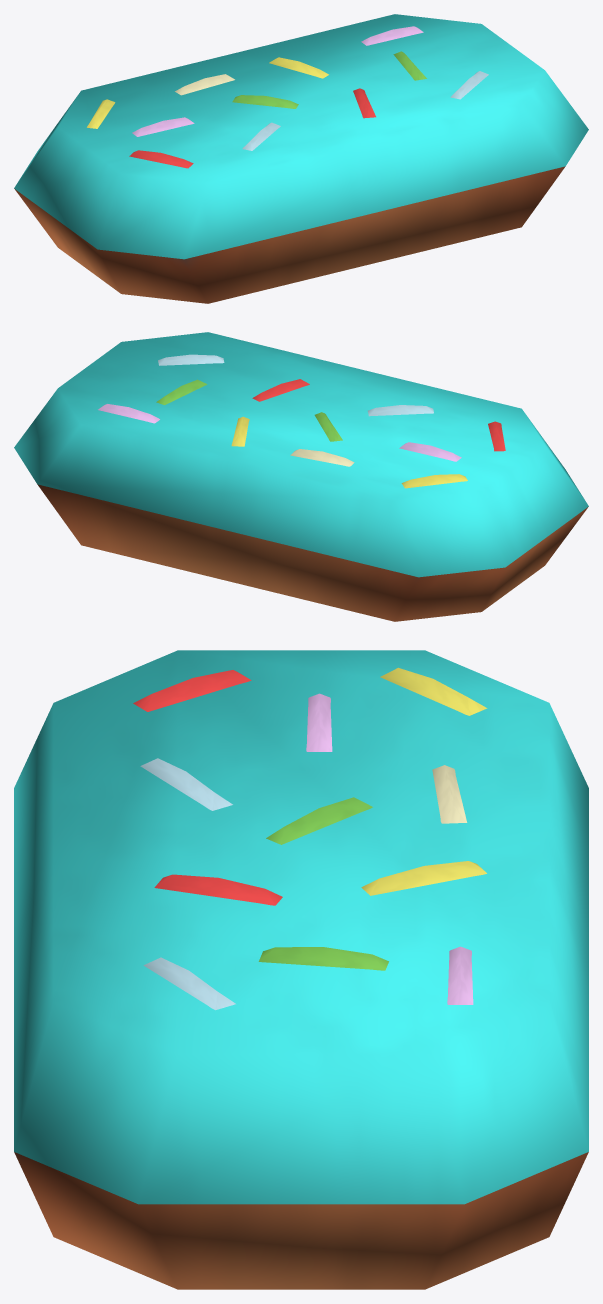
Rendered from Doughnut_Bar_D_2.FBX.
3 renders of one model, top to bottom at view 1: azimuth 30°, elevation 25°; view 2: azimuth 150°, elevation 25°; view 3: azimuth 270°, elevation 25°, orthographic. The views are drawn at different scales.
Visible parts, largest first — view 1: Doughnut_Bar; view 2: Doughnut_Bar; view 3: Doughnut_Bar.
Part boxes in pixels (left/top/right/bottom): Doughnut_Bar: left=14, top=14, right=588, bottom=303; Doughnut_Bar: left=14, top=332, right=588, bottom=621; Doughnut_Bar: left=14, top=650, right=588, bottom=1289.
Size of the model in its own units: 75.48 by 18.74 by 39.15.
